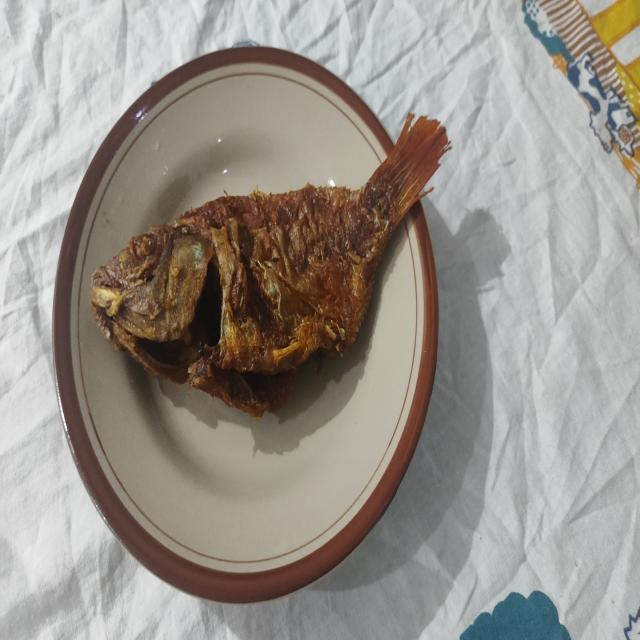ikan_mujair: (90, 114, 450, 417)
